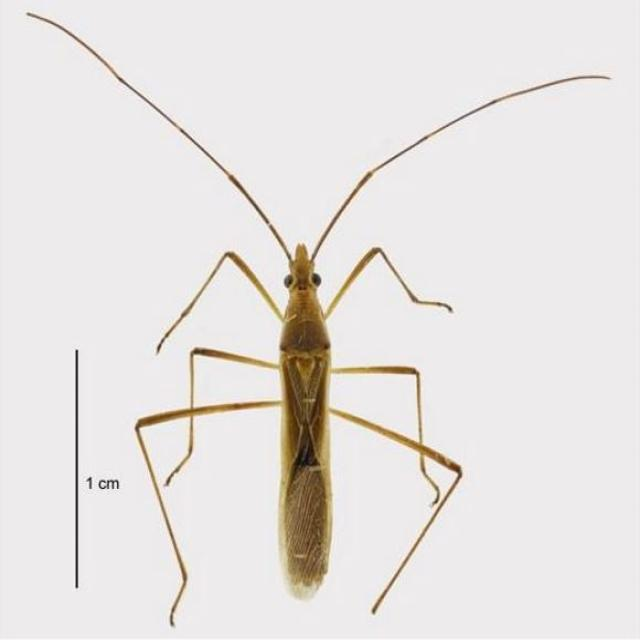walang sangit pada tanaman padi: (23, 7, 614, 626)
